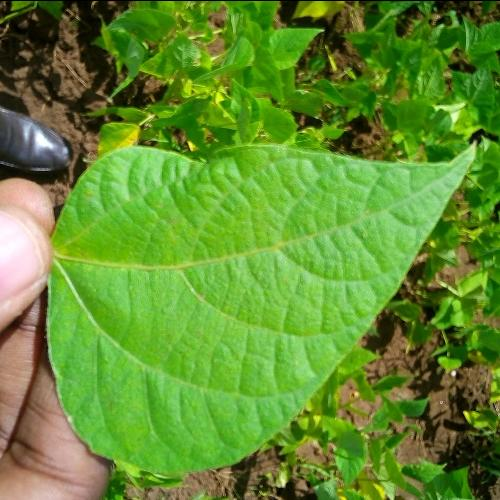embun tepung: (32, 71, 420, 495)
